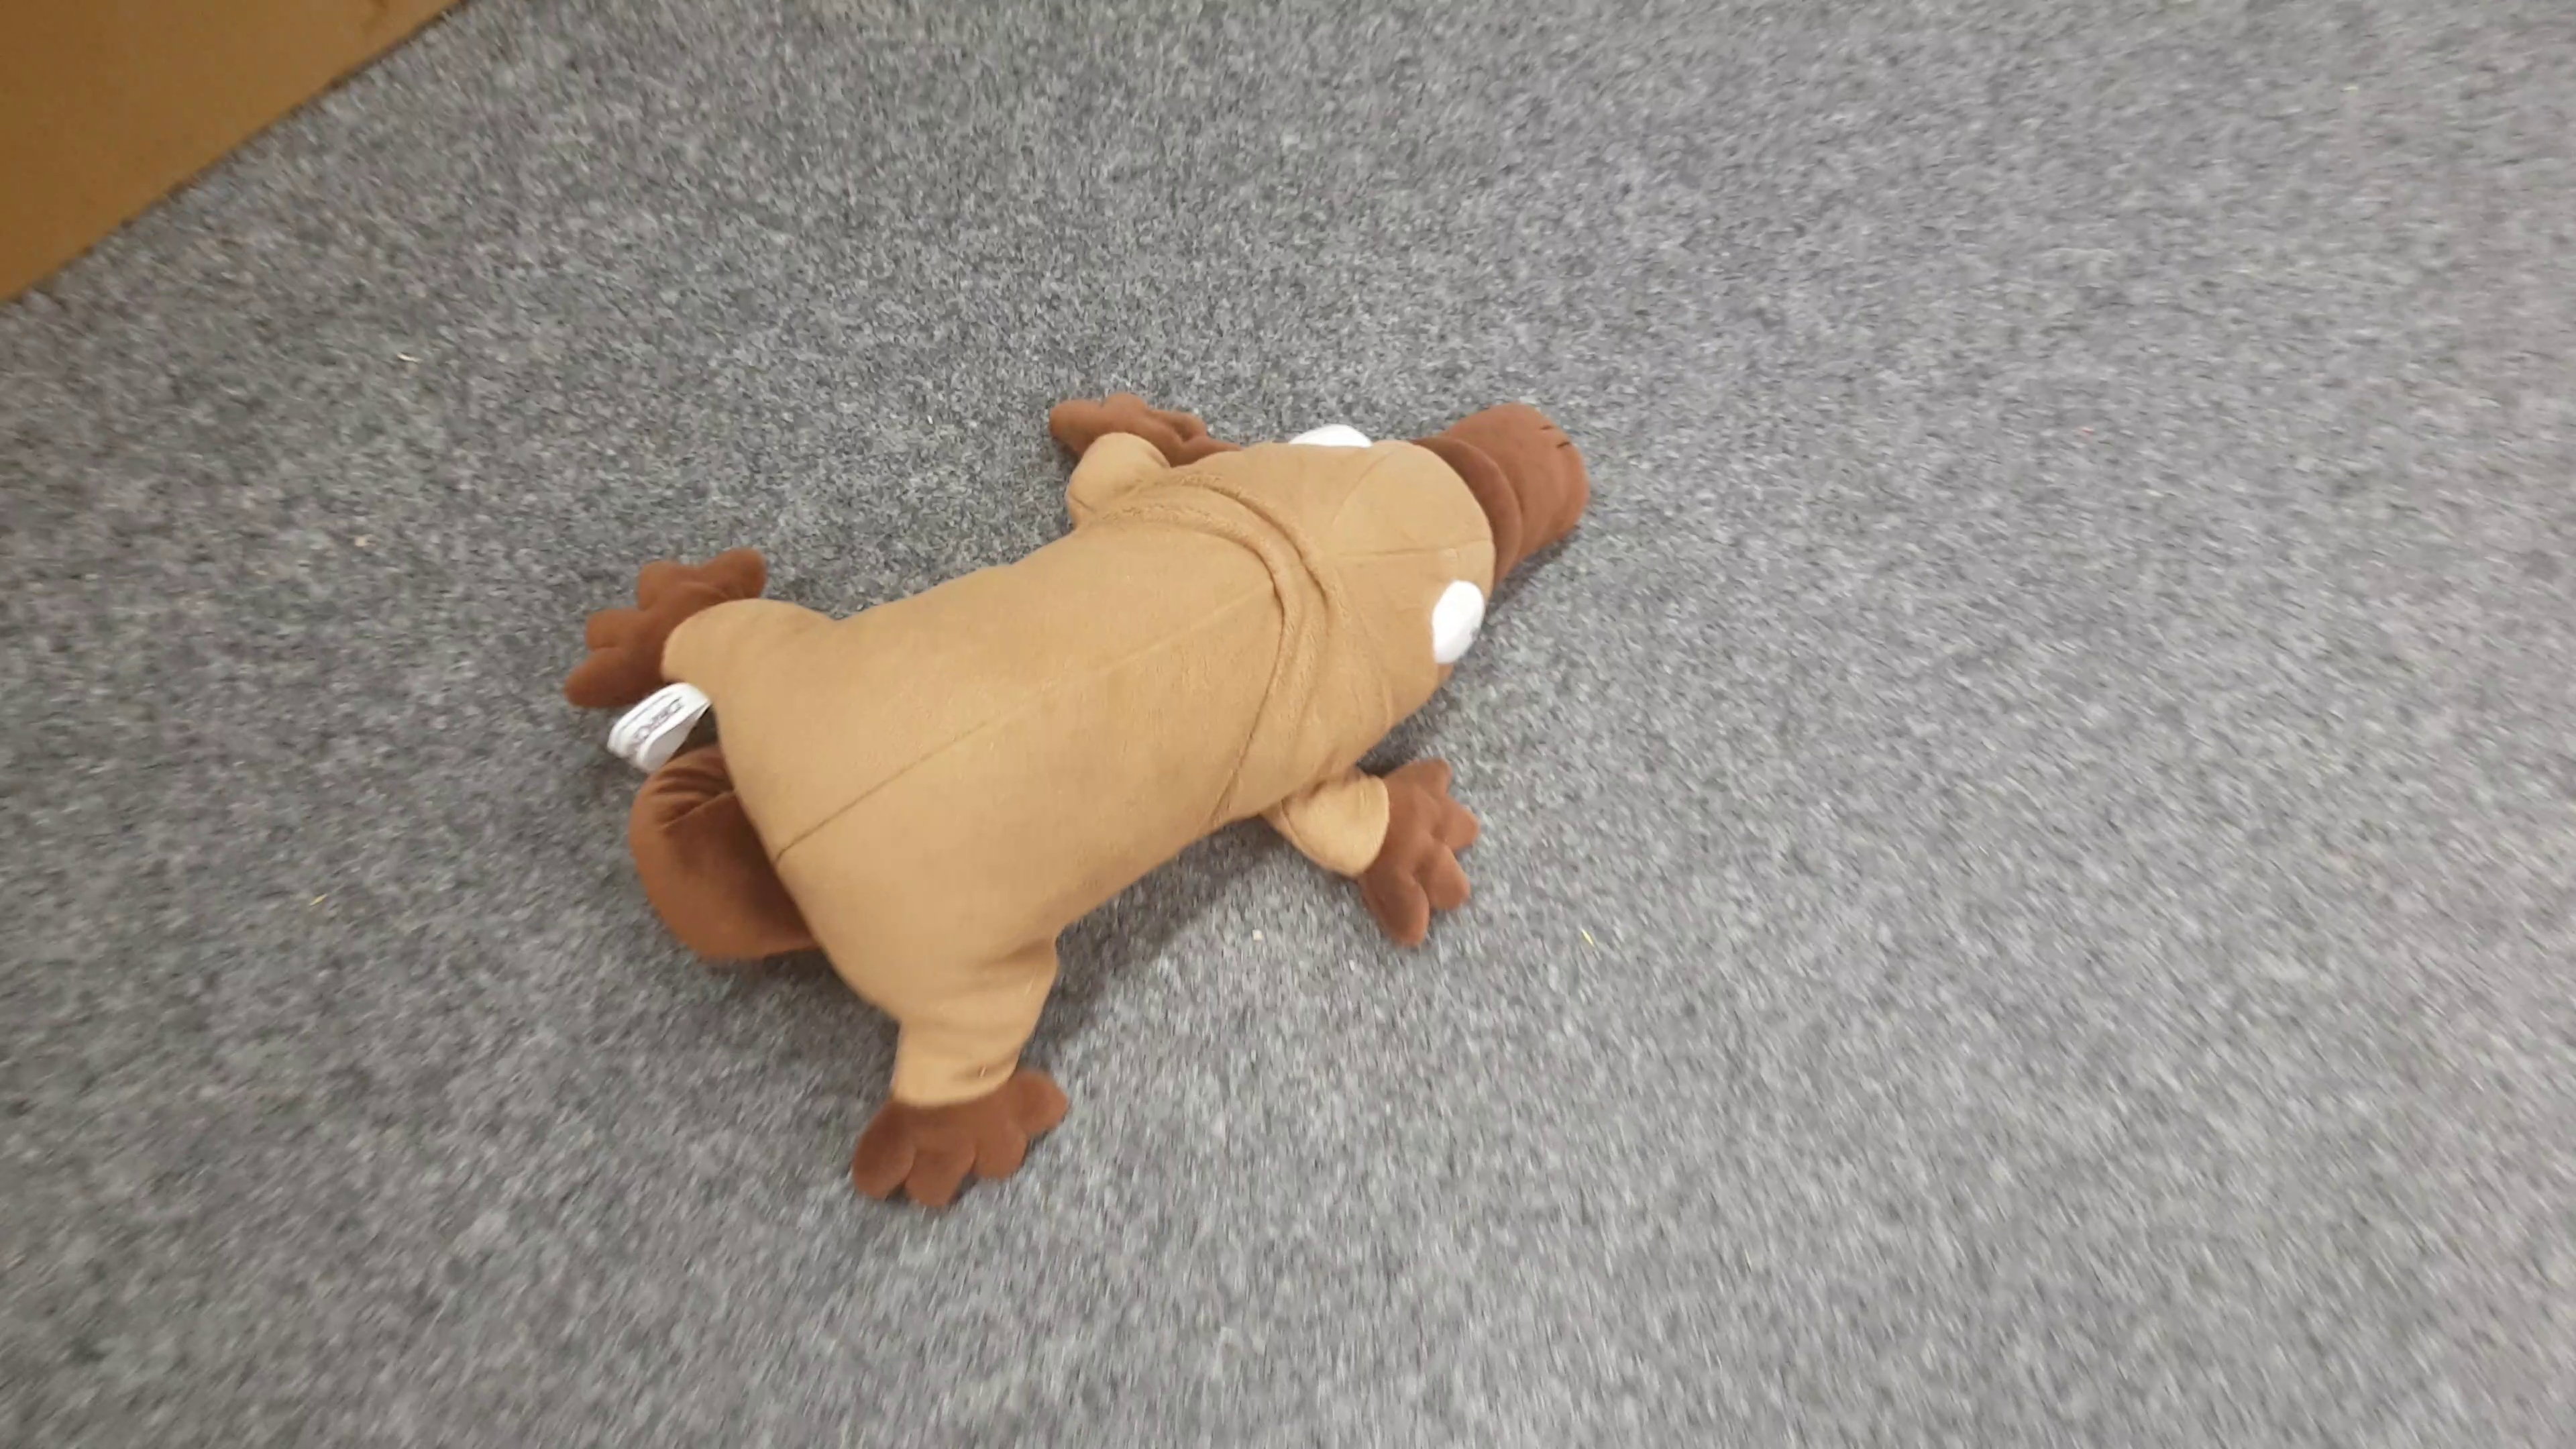grasp: (566, 377, 1594, 1215)
